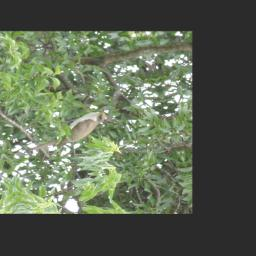Cuckoo: (11, 105, 117, 155)
